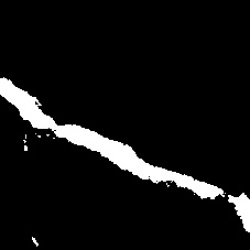crack: (1, 76, 249, 233)
pinhole: (30, 232, 42, 245), (24, 135, 28, 153)
